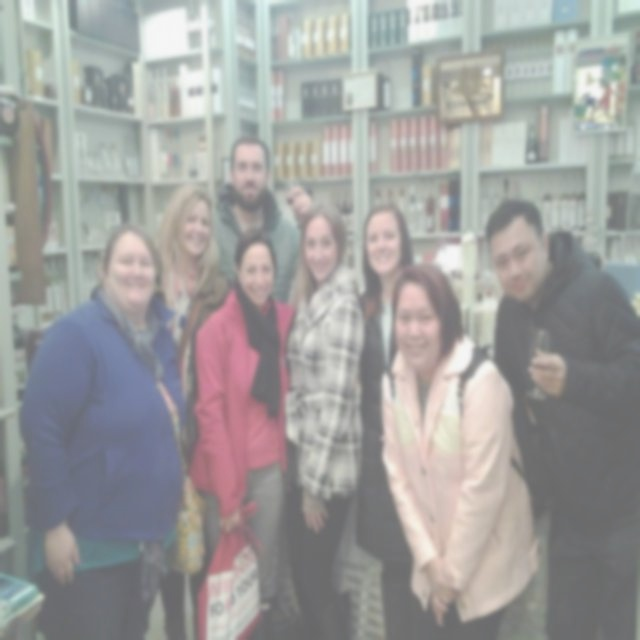pessoa: (12, 221, 196, 639), (475, 188, 639, 639), (374, 256, 548, 639), (274, 194, 371, 639), (194, 226, 296, 639), (352, 198, 422, 639), (210, 134, 316, 306), (152, 178, 234, 326)
